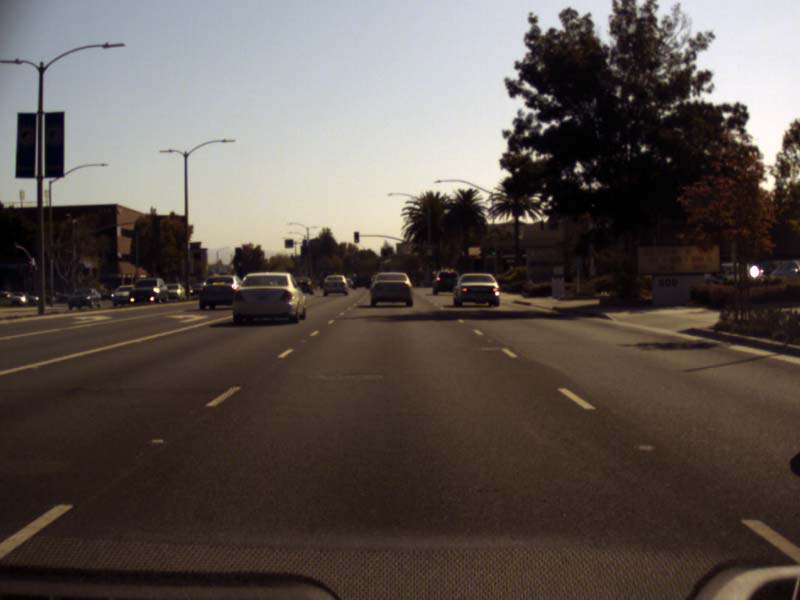Green: (354, 231, 359, 243), (428, 256, 433, 265), (491, 247, 495, 255)
